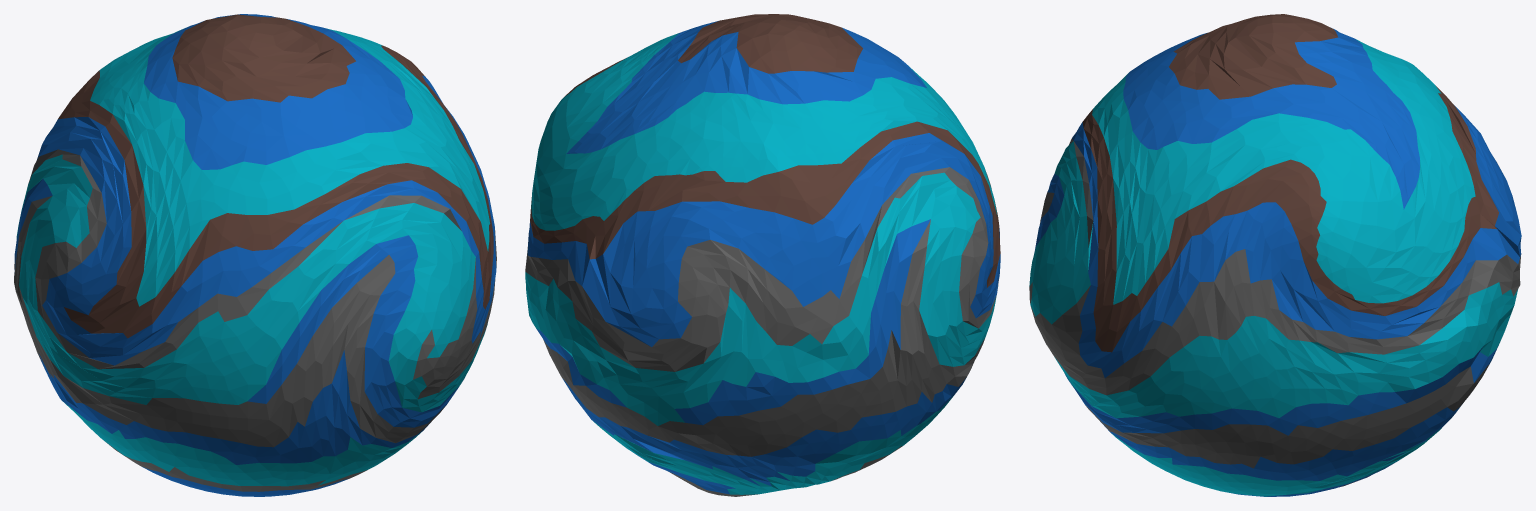
File: Planet_11.glb
The picture shows the model from 3 angles, left to right: view 1: azimuth 30°, elevation 25°; view 2: azimuth 150°, elevation 25°; view 3: azimuth 270°, elevation 25°; orthographic projection.
Parts seen in each view (by area): view 1: Planet_11; view 2: Planet_11; view 3: Planet_11.
Boxes of the visible parts, x1,y1,x2,y2 form: Planet_11: [14, 14, 496, 496]; Planet_11: [525, 14, 1000, 496]; Planet_11: [1029, 14, 1521, 496].
Bounding box in the file's own units: 20.32 × 20.97 × 20.87.
1 material, 1 textured.
